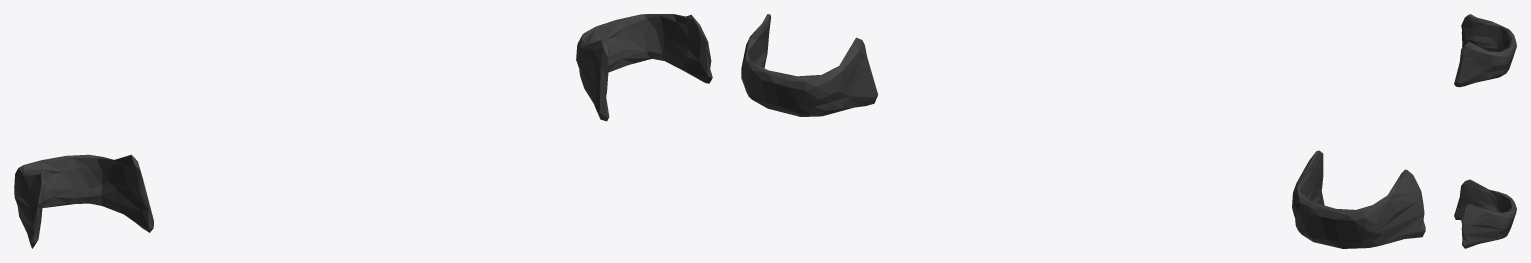
File: lig_anular_plantar_HL.glb
3 views of the same model, side by side, from view 1: azimuth 30°, elevation 25°; view 2: azimuth 150°, elevation 25°; view 3: azimuth 270°, elevation 25° (orthographic). The views are drawn at different scales.
Visible parts, largest first — view 1: lig_anular_plantar_HL; view 2: lig_anular_plantar_HL; view 3: lig_anular_plantar_HL.
Part boxes in pixels (<box>): lig_anular_plantar_HL: <box>14,14,712,248</box>; lig_anular_plantar_HL: <box>741,14,1425,248</box>; lig_anular_plantar_HL: <box>1454,14,1516,248</box>.
Bounding box in the file's own units: 0.00547 × 0.00057 × 0.000731.
1 material, 1 textured.
